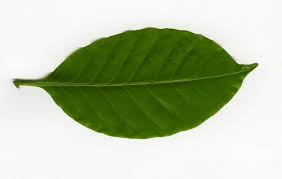healthy: (30, 13, 267, 158)
